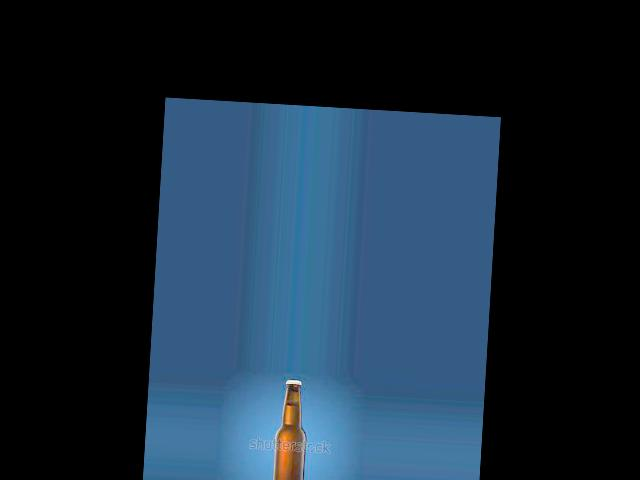beer: (271, 378, 310, 480)
